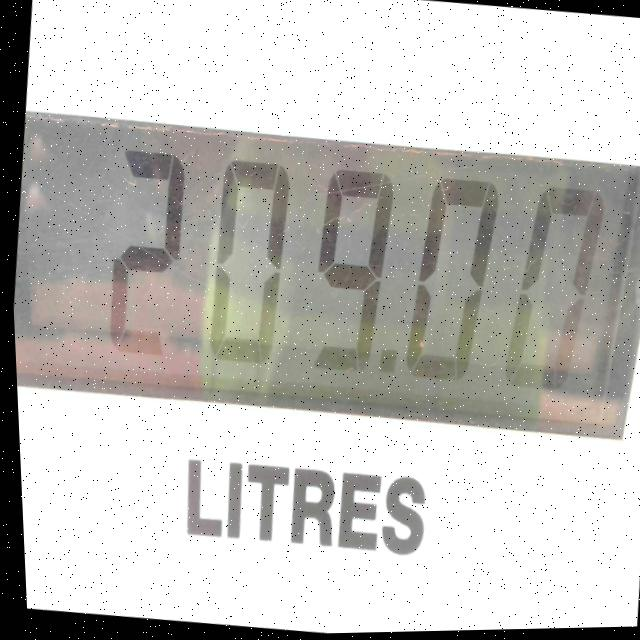.: (359, 325, 405, 403)
0: (183, 141, 319, 395), (485, 163, 617, 418), (384, 155, 509, 397)
2: (61, 125, 213, 395)
9: (295, 144, 403, 394)
